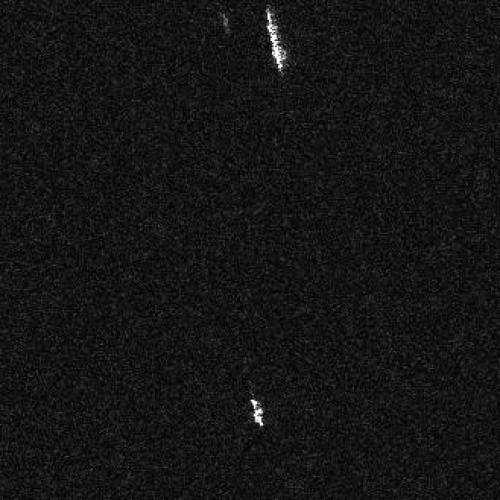ship: (265, 7, 289, 74), (248, 397, 266, 429)
